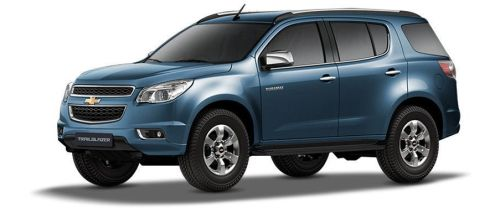pickup: (55, 7, 461, 191)
